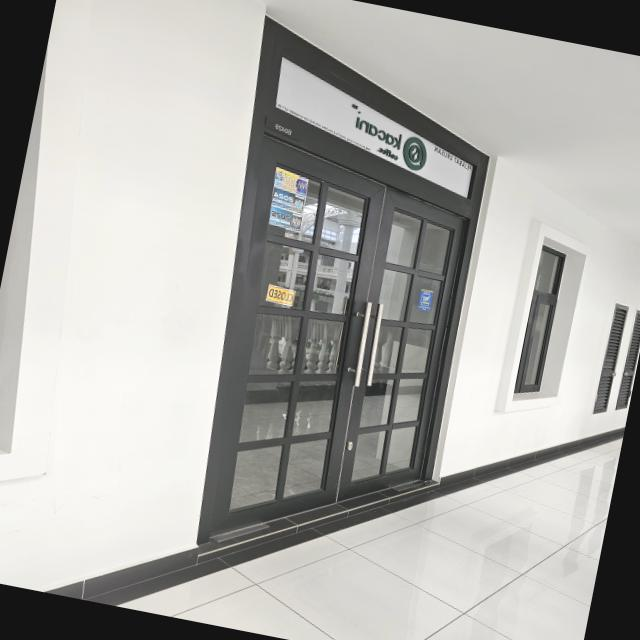door: (181, 132, 483, 584)
footpath: (260, 447, 609, 640)
